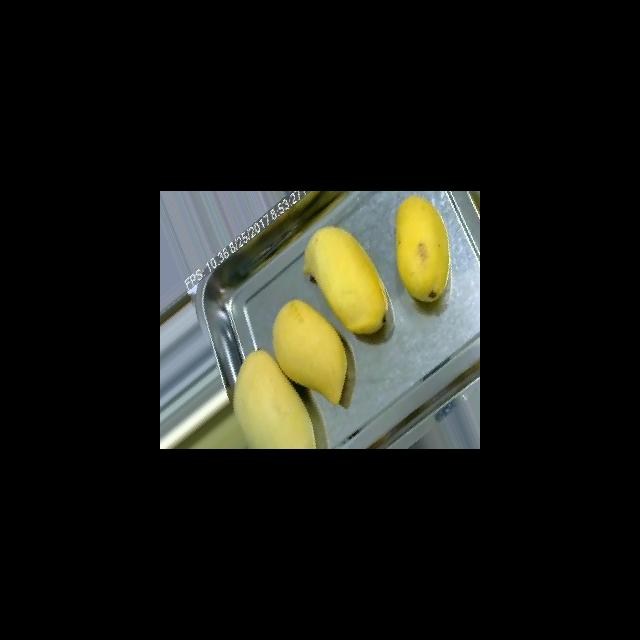mango: (302, 225, 388, 335), (232, 349, 316, 448), (271, 298, 347, 405), (394, 194, 450, 302)
